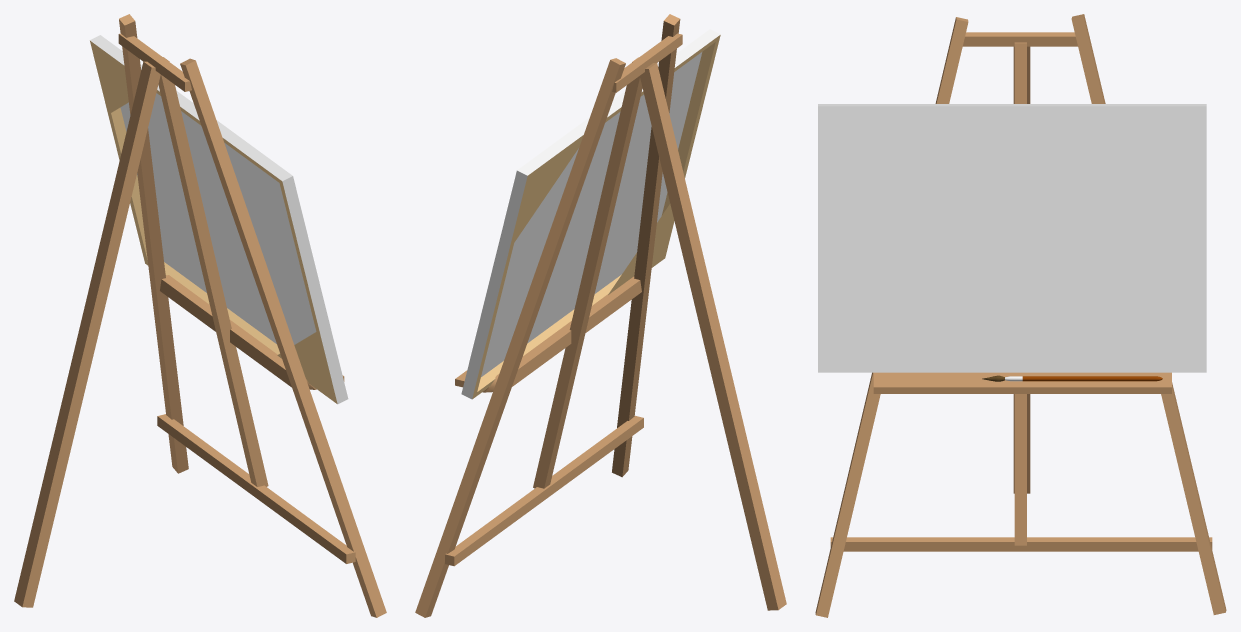
Rendered from creative.glb.
The picture shows the model from 3 angles, left to right: view 1: azimuth 30°, elevation 25°; view 2: azimuth 150°, elevation 25°; view 3: azimuth 270°, elevation 25°; orthographic projection.
Visible parts, largest first — view 1: cavalete:pCube9, pintura:pCube1; view 2: cavalete:pCube9, pintura:pCube1; view 3: pintura:pCube1, cavalete:pCube9, pCone2.
Boxes of the visible parts, x1,y1,x2,y2 form: cavalete:pCube9: [14, 14, 386, 617]; pintura:pCube1: [90, 35, 348, 404]; cavalete:pCube9: [415, 14, 786, 617]; pintura:pCube1: [461, 29, 720, 399]; pintura:pCube1: [818, 104, 1206, 372]; cavalete:pCube9: [815, 14, 1226, 617]; pCone2: [982, 375, 1162, 381].
Size of the model in its own units: 1.05 by 2.03 by 1.39.
